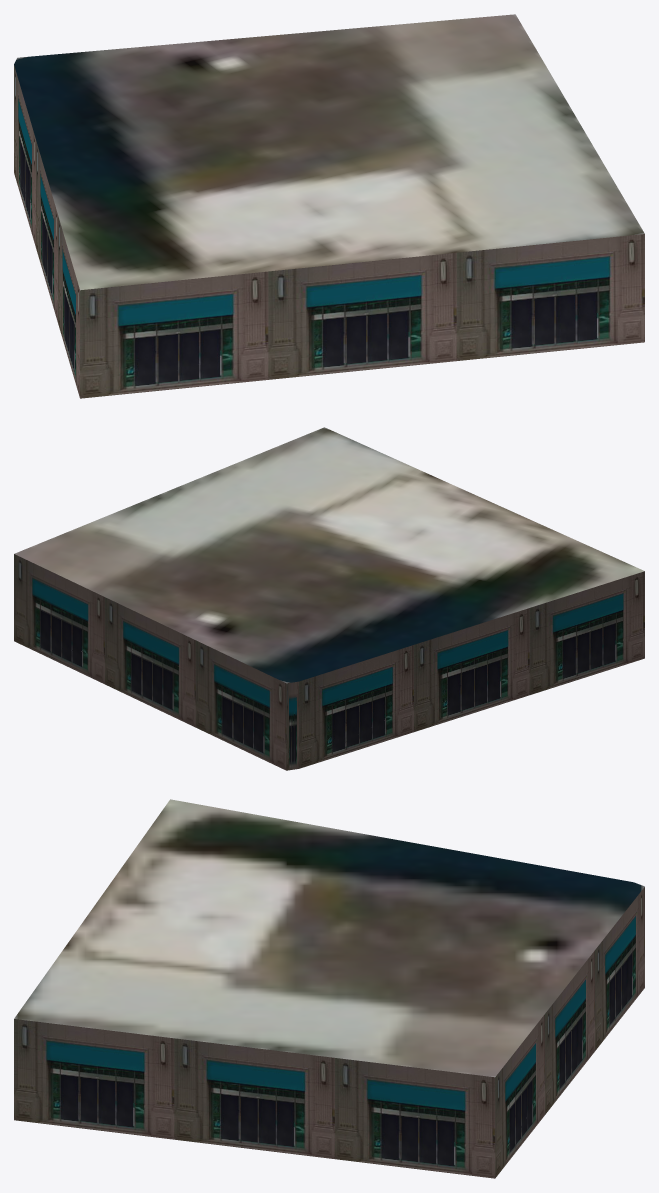
File: T_1SWSS4P213.dae
The picture shows the model from 3 angles, top to bottom: view 1: azimuth 30°, elevation 25°; view 2: azimuth 150°, elevation 25°; view 3: azimuth 270°, elevation 25°; orthographic projection. The views are drawn at different scales.
Parts seen in each view (by area): view 1: SketchUp (×3); view 2: SketchUp (×4); view 3: SketchUp (×3).
Boxes of the visible parts, x1,y1,x2,y2 form: SketchUp (×3): (14, 14, 644, 398); SketchUp (×4): (14, 427, 644, 770); SketchUp (×3): (14, 799, 644, 1178).
Size of the model in its own units: 19.76 by 18.96 by 3.36.
Materials: 2 (2 with a texture image).
